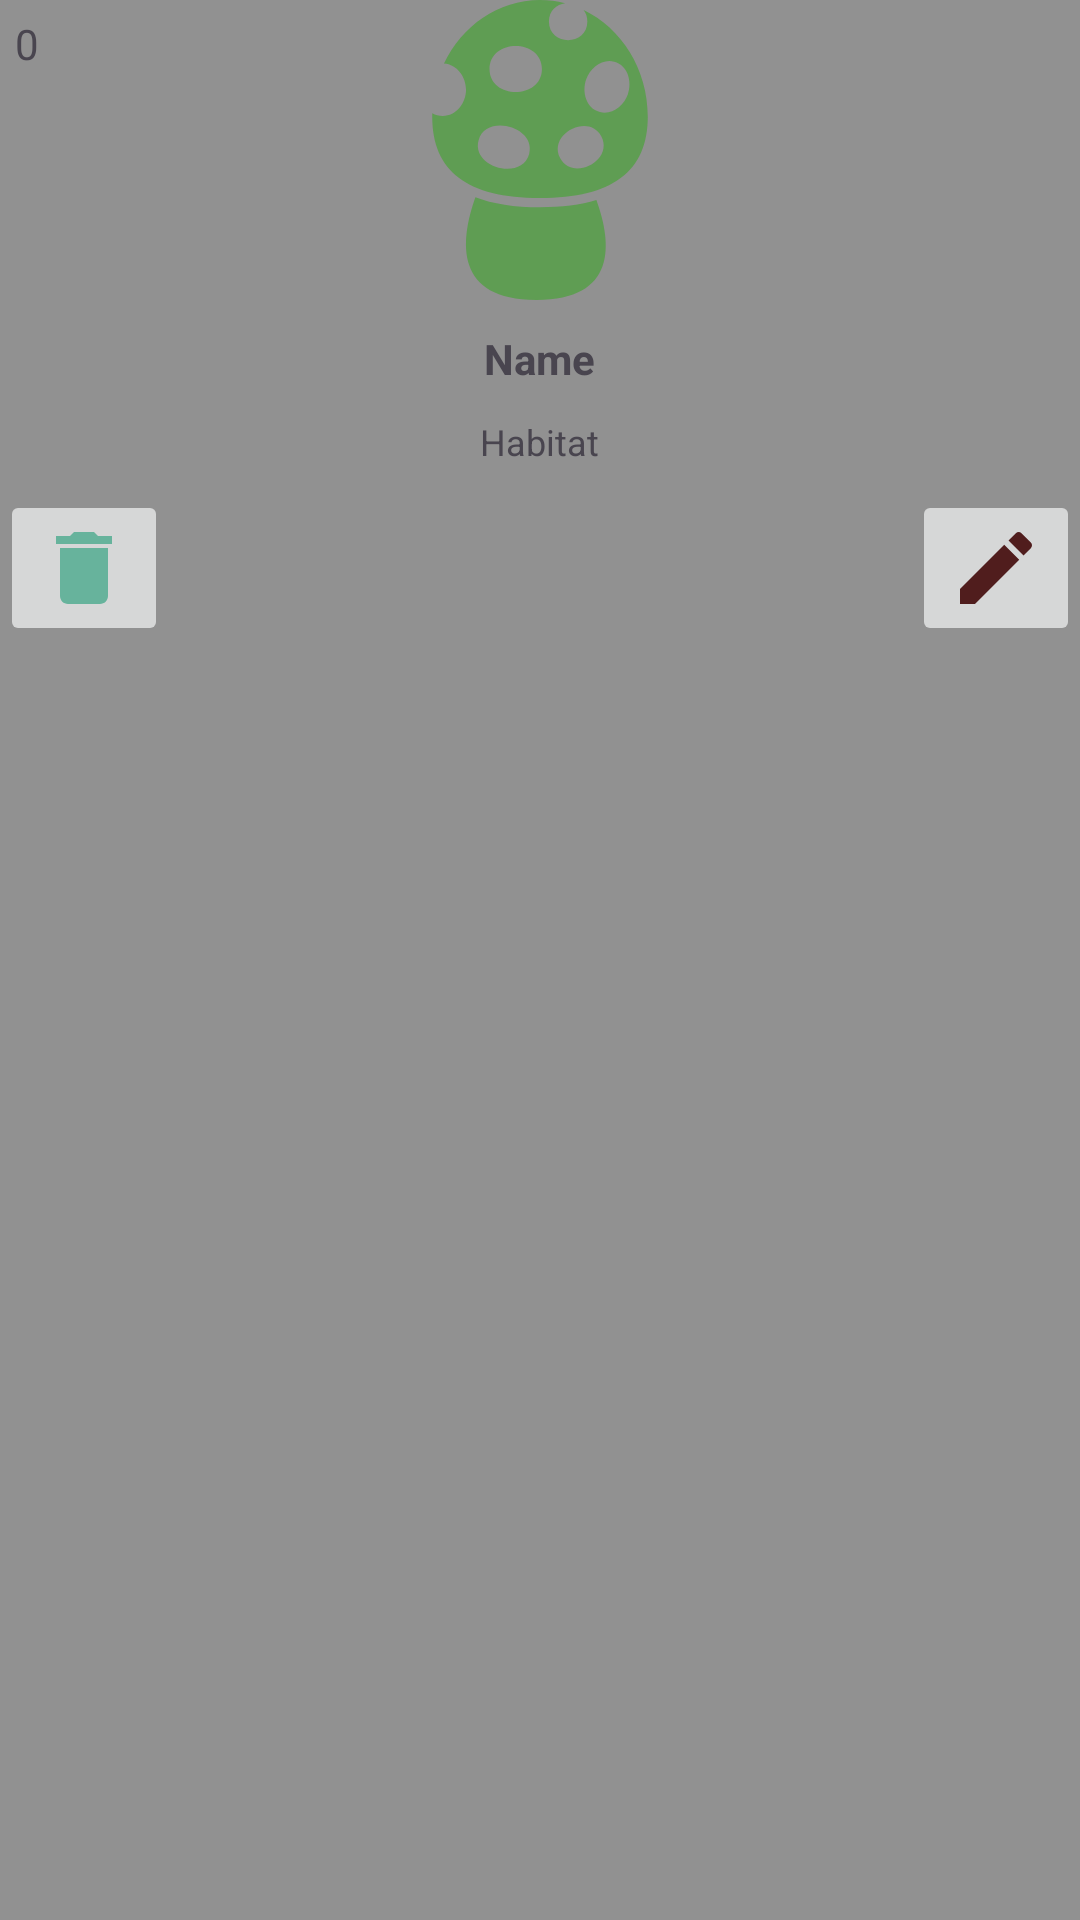

Screen size 1080x1920. Icon name, then its center in pixels as point (x, y):
delete: point (84, 568)
edit: point (996, 568)
mushroom safe: point (540, 150)
